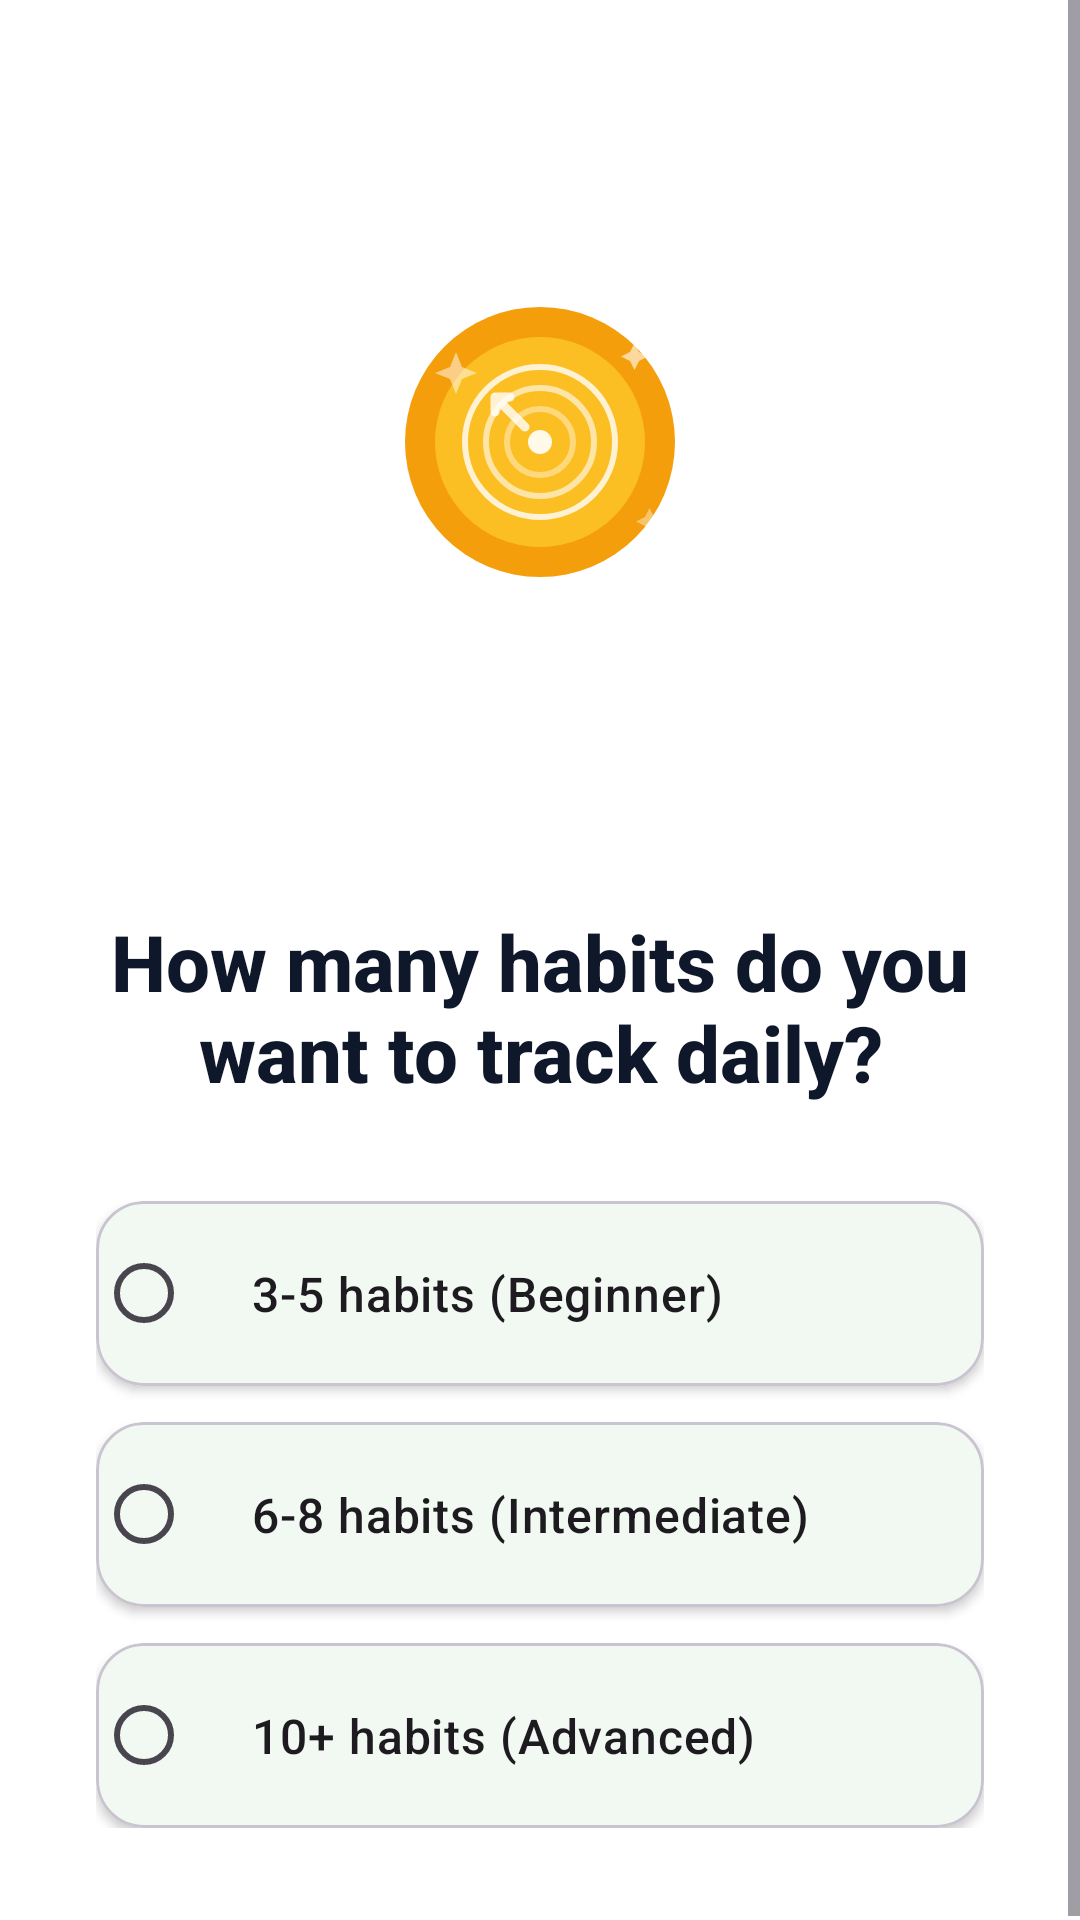

Where icons sit on this 1080x1920 app screen, as bbox=(x1, y1, x2, y2):
Goal setting illustration: bbox=(405, 307, 675, 577)
